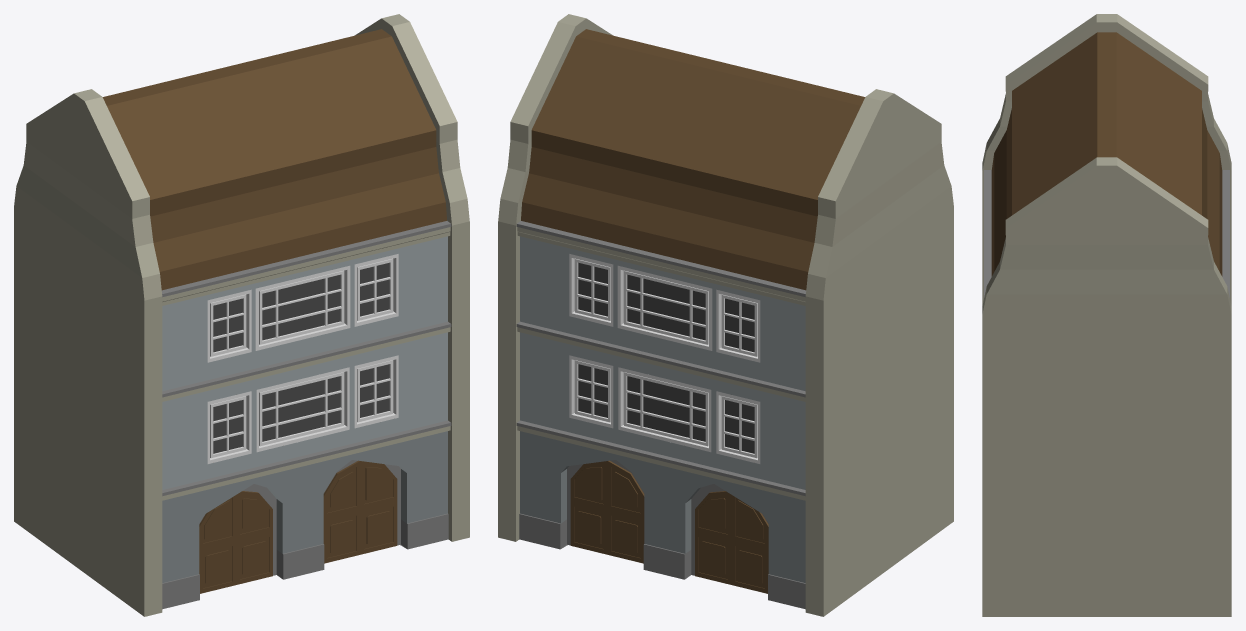
The model's file is Building2_Small.glb.
The picture shows the model from 3 angles, left to right: view 1: azimuth 30°, elevation 25°; view 2: azimuth 150°, elevation 25°; view 3: azimuth 270°, elevation 25°; orthographic projection. The views are drawn at different scales.
Visible parts, largest first — view 1: Building2_Small_2, Building2_Small_3, Building2_Small_0, Building2_Small_6, Building2_Small_9, Building2_Small_8, Building2_Small_4; view 2: Building2_Small_2, Building2_Small_3, Building2_Small_0, Building2_Small_6, Building2_Small_9, Building2_Small_8, Building2_Small_4; view 3: Building2_Small_2, Building2_Small_3, Building2_Small_4.
Part boxes in pixels (box(x1,y1,x2,y2)): Building2_Small_2: box(14, 14, 469, 616); Building2_Small_3: box(102, 29, 446, 593); Building2_Small_0: box(162, 236, 447, 489); Building2_Small_6: box(207, 254, 398, 463); Building2_Small_9: box(162, 431, 447, 582); Building2_Small_8: box(213, 262, 389, 453); Building2_Small_4: box(161, 221, 451, 609); Building2_Small_2: box(498, 14, 953, 616); Building2_Small_3: box(521, 29, 865, 593); Building2_Small_0: box(520, 236, 805, 489); Building2_Small_6: box(569, 254, 760, 463); Building2_Small_9: box(520, 431, 805, 582); Building2_Small_8: box(578, 262, 754, 453); Building2_Small_4: box(516, 221, 806, 609); Building2_Small_2: box(982, 14, 1231, 616); Building2_Small_3: box(991, 32, 1222, 276); Building2_Small_4: box(984, 170, 1229, 297).
Size of the model in its own units: 3.58 by 4.97 by 2.49.
